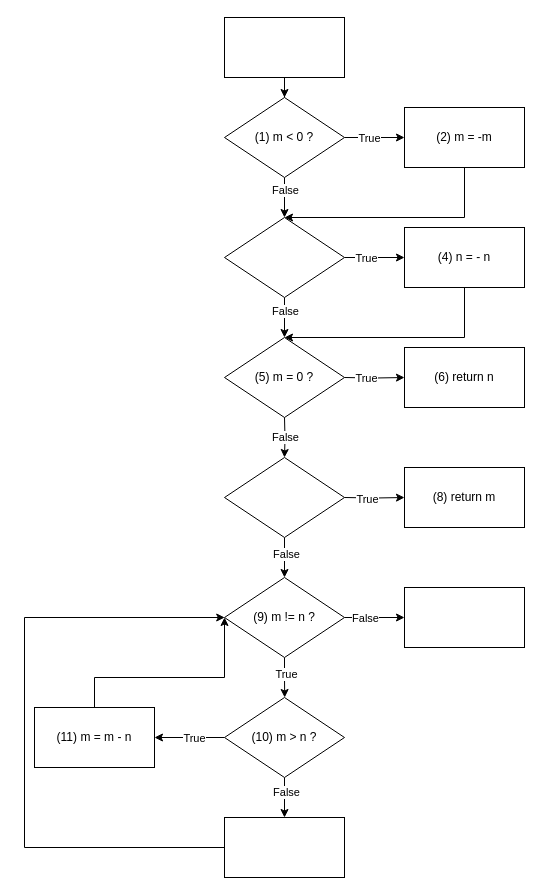
The diagram is 542 pixels wide and 895 high, and some of its shapes have lost their labels. Each missing label, with the centre of its shape:
"(0) UCLN(int m, int n)" goes at [284,47].
"(12) n = n - m" goes at [284,847].
"(13) return m" goes at [464,617].
"(3) n < 0 ?" goes at [284,257].
"(7) n = 0 ?" goes at [284,497].
